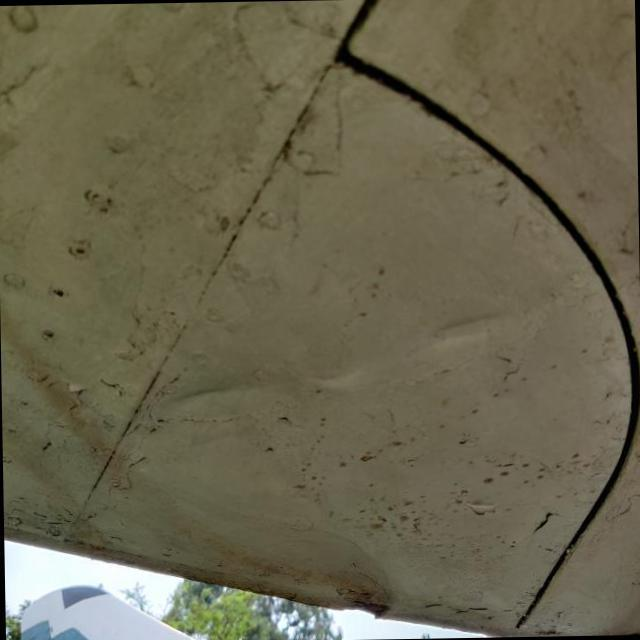Dent: (146, 346, 272, 444), (404, 284, 530, 378)
